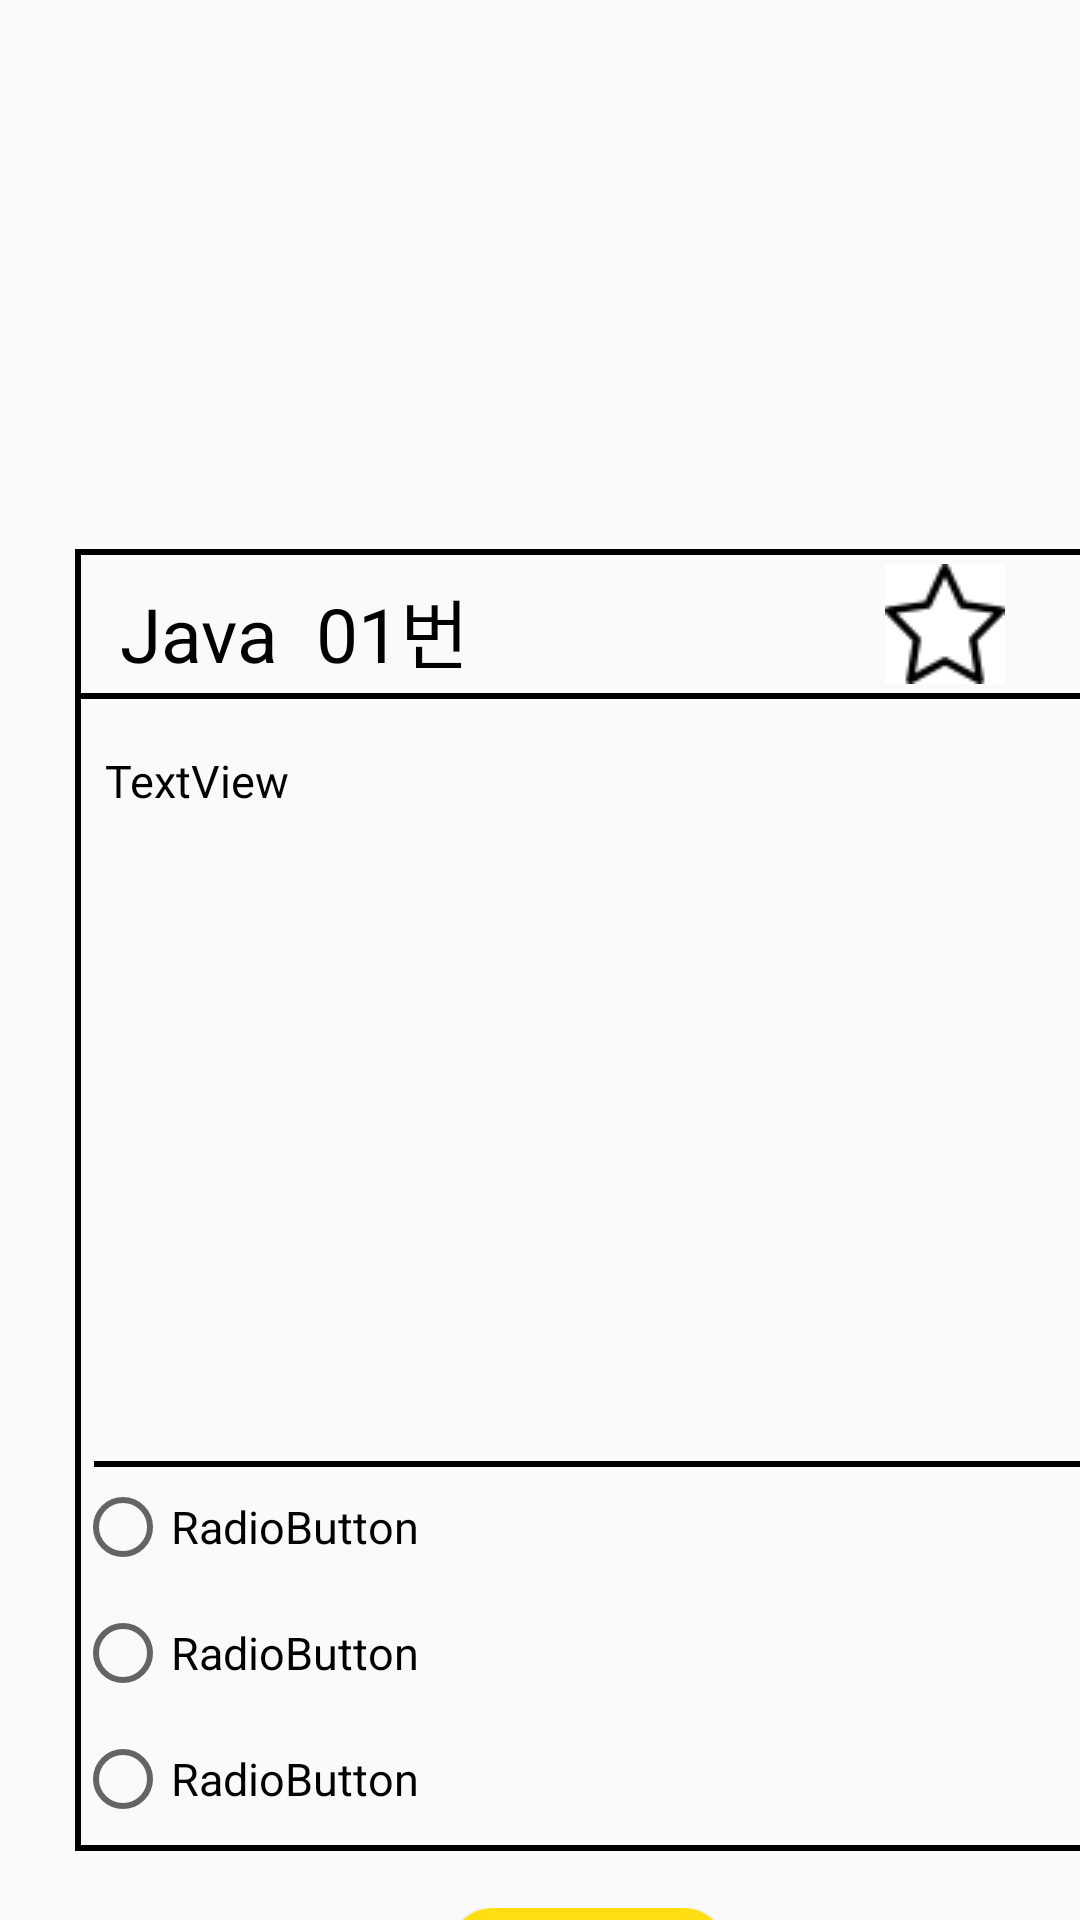

Where icons sit on this 1080w x 1920h app screen, as (x1, y1, x2, y2):
star off: (885, 564, 1005, 684)
